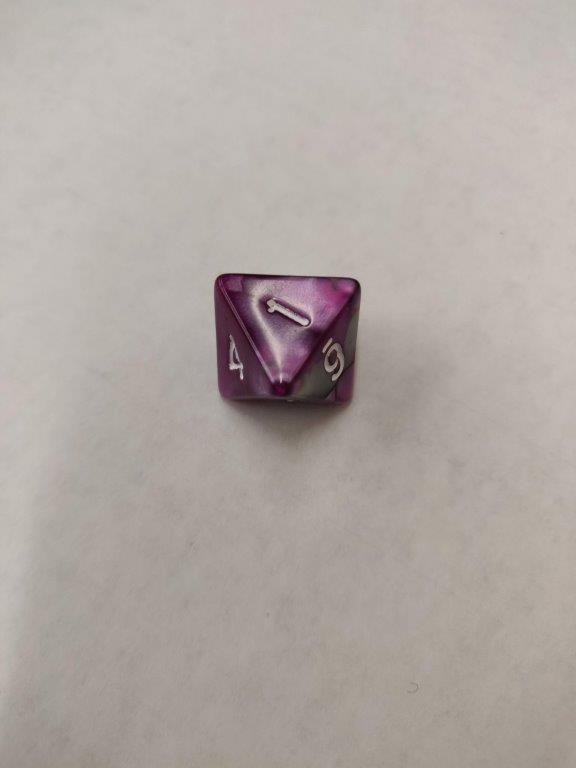d8-1: (211, 269, 362, 411)
